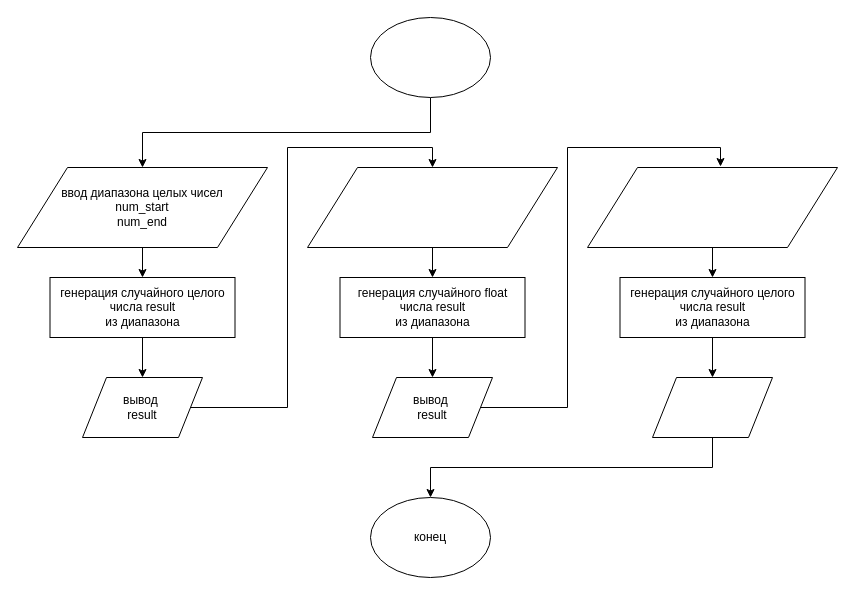
This 855x595 diagram has some shape labels left out. Each missing label, with the centre of its shape:
"ввод диапазона float чисел num_start num_end" goes at pixel 432 207.
"ввод диапазона случайных симв num_start num_end" goes at pixel 712 207.
"вывод chr(result)" goes at pixel 712 407.
"начало" goes at pixel 430 57.
